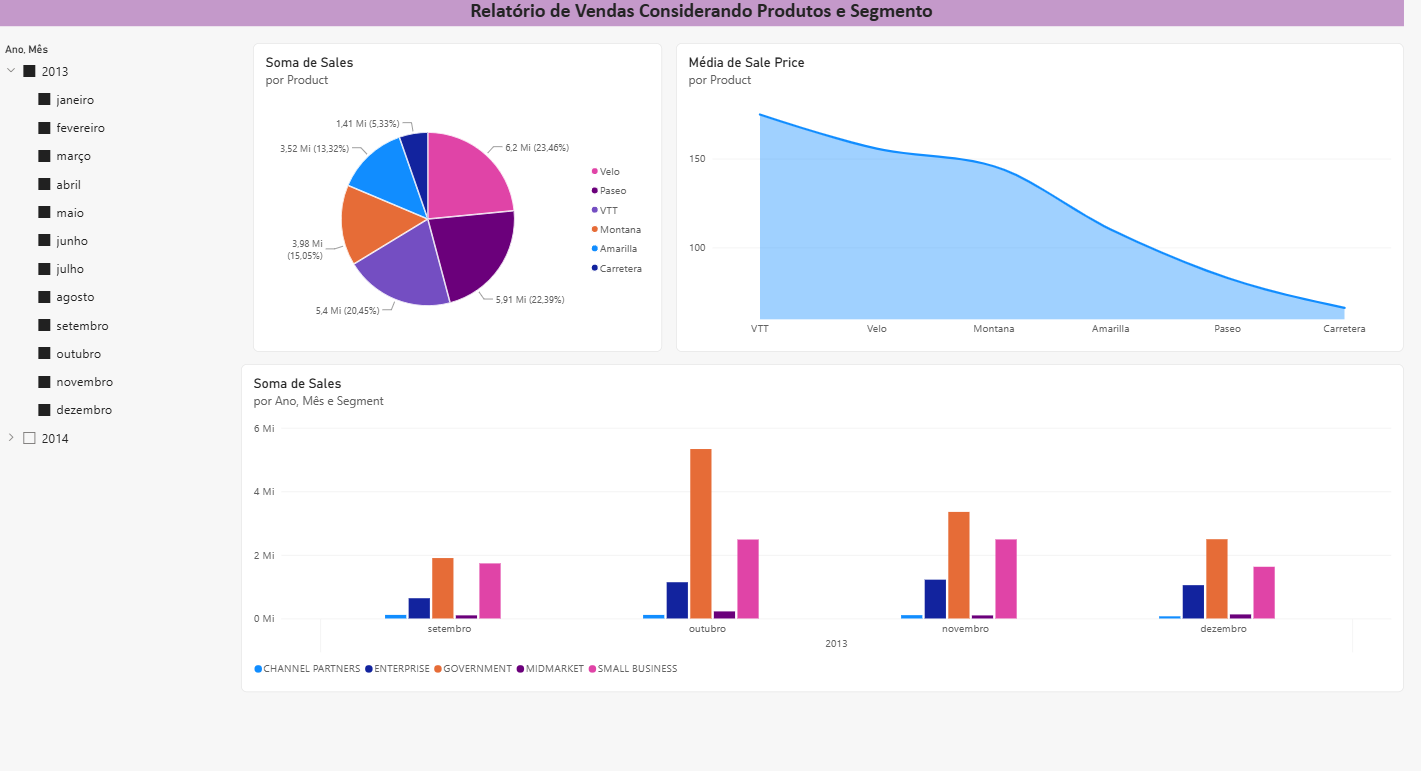

The page's visual inventory and layout, read from the dashboard file:
{"tool":"powerbi","page":{"name":"Página 1","canvas":[1920,1080],"ordinal":0},"visuals":[{"type":"pieChart","fields":{"Category":["financials.Product"],"Y":["Sum(financials. Sales)"]},"box":[342,94.3,550.8,416.1],"z":0},{"type":"areaChart","fields":{"Category":["financials.Product"],"Y":["Avg(financials.Sale Price)"]},"box":[911.7,94.3,980.3,416.1],"z":1000},{"type":"clusteredColumnChart","fields":{"Category":["financials.Date.Variation.Hierarquia de datas.Ano","financials.Date.Variation.Hierarquia de datas.Mês"],"Series":["financials.Segment"],"Y":["Sum(financials. Sales)"]},"box":[325.9,526.5,1566.1,441.7],"z":2000},{"type":"slicer","fields":{"Values":["financials.Date.Variation.Hierarquia de datas.Ano","financials.Date.Variation.Hierarquia de datas.Mês"]},"box":[0,94.3,325.9,874],"z":3000},{"type":"textbox","box":[0,33.7,1892,37.7],"z":4000}]}

Visuals, with their boxes on the page's 1920x1080 design canvas (x1, y1, x2, y2). These are canvas units, not pixel positions in the 1421x771 screenshot, which may show the page scaled, cropped or inside an application window:
pieChart - financials.Product x Sum(financials. Sales): left=342, top=94, right=893, bottom=510
areaChart - financials.Product x Avg(financials.Sale Price): left=912, top=94, right=1892, bottom=510
clusteredColumnChart - financials.Date.Variation.Hierarquia de datas.Ano x financials.Date.Variation.Hierarquia de datas.Mês: left=326, top=526, right=1892, bottom=968
slicer - financials.Date.Variation.Hierarquia de datas.Ano x financials.Date.Variation.Hierarquia de datas.Mês: left=0, top=94, right=326, bottom=968
textbox: left=0, top=34, right=1892, bottom=71
